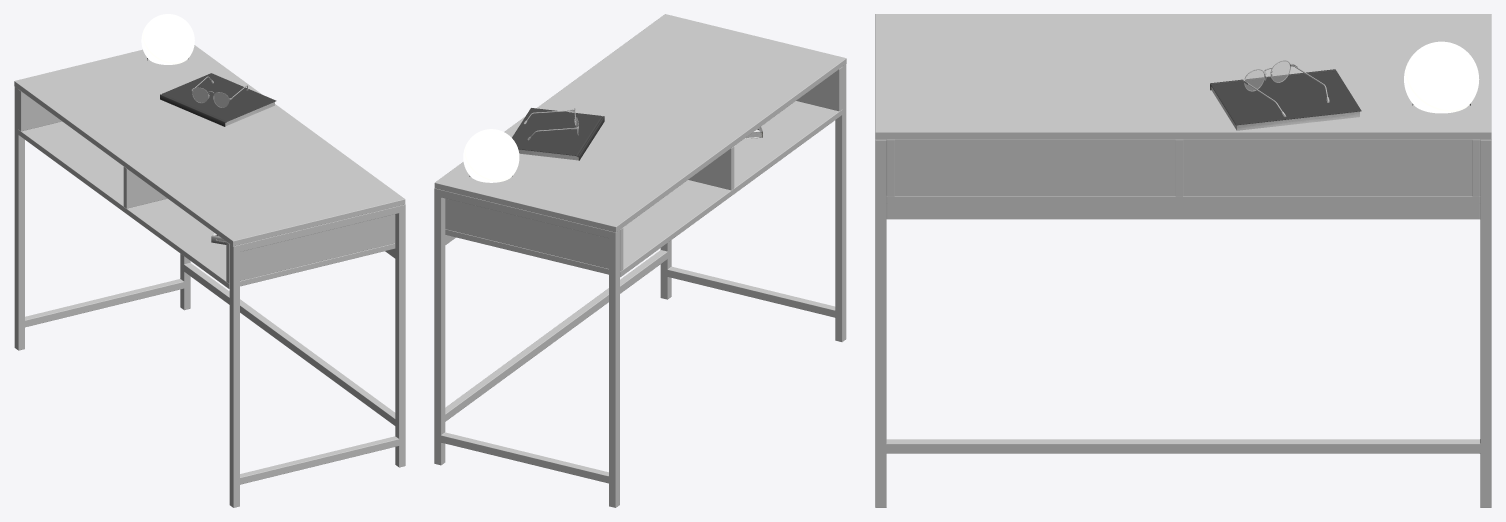
3 renders of one model, left to right at view 1: azimuth 30°, elevation 25°; view 2: azimuth 150°, elevation 25°; view 3: azimuth 270°, elevation 25°, orthographic. The views are drawn at different scales.
Visible parts, largest first — view 1: Box2131645258, Box2131645260, Box2131645259, Box2131645261, Box2131645263, Cover book-03.014, Sphere.001, Box2131645262, Box2131645264, VIFS06.005; view 2: Box2131645258, Box2131645261, Box2131645259, Box2131645260, Box2131645264, Cover book-03.014, Sphere.001, Box2131645263, Box2131645262; view 3: Box2131645258, Box2131645265, Box2131645261, Cover book-03.014, Box2131645259, Box2131645260, Sphere.001, VIFS06.005.
Part boxes in pixels (x1,y1,x2,y2): Box2131645258: [14, 45, 405, 246]; Box2131645260: [229, 204, 405, 507]; Box2131645259: [18, 121, 395, 288]; Box2131645261: [14, 87, 395, 425]; Box2131645263: [226, 214, 395, 283]; Cover book-03.014: [160, 73, 276, 126]; Sphere.001: [141, 14, 194, 64]; Box2131645262: [123, 167, 167, 208]; Box2131645264: [18, 89, 61, 131]; VIFS06.005: [191, 76, 248, 107]; Box2131645258: [434, 14, 846, 232]; Box2131645261: [434, 188, 667, 507]; Box2131645259: [445, 101, 842, 277]; Box2131645260: [660, 64, 846, 341]; Box2131645264: [445, 198, 623, 271]; Cover book-03.014: [512, 108, 604, 160]; Sphere.001: [463, 129, 519, 182]; Box2131645263: [796, 67, 842, 111]; Box2131645262: [688, 146, 734, 190]; Box2131645258: [875, 14, 1491, 139]; Box2131645265: [886, 139, 1480, 219]; Box2131645261: [886, 139, 1491, 507]; Cover book-03.014: [1210, 69, 1361, 130]; Box2131645259: [886, 196, 1480, 203]; Box2131645260: [875, 139, 886, 507]; Sphere.001: [1404, 41, 1479, 113]; VIFS06.005: [1243, 60, 1329, 117].
Bounding box in the file's own units: 0.5011 × 0.8627 × 1.1.
11 materials, 3 textured.
